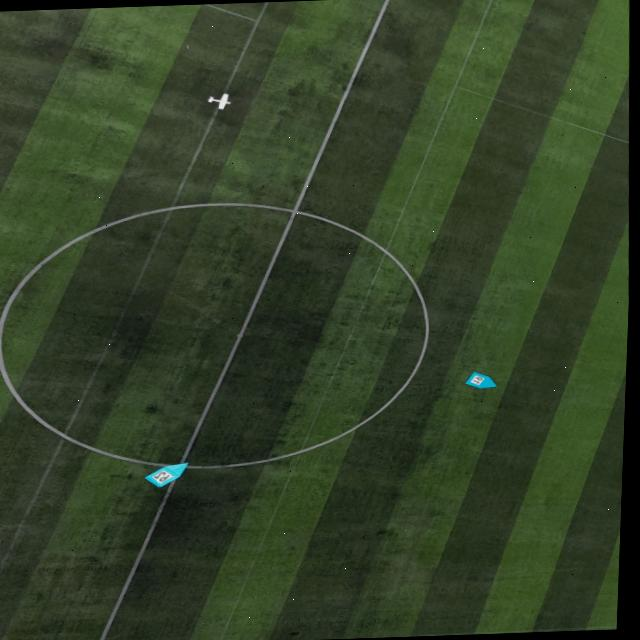board: (146, 462, 190, 487), (467, 371, 498, 388)
